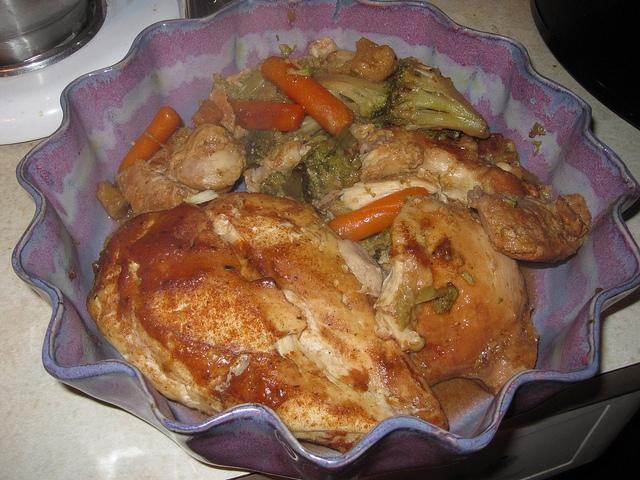broccoli: (384, 56, 492, 140), (240, 114, 323, 165), (259, 162, 326, 220), (310, 74, 390, 120), (306, 146, 362, 200), (414, 282, 459, 314)
carrot: (260, 56, 354, 137), (328, 186, 429, 242), (117, 106, 181, 174), (226, 98, 305, 132)
